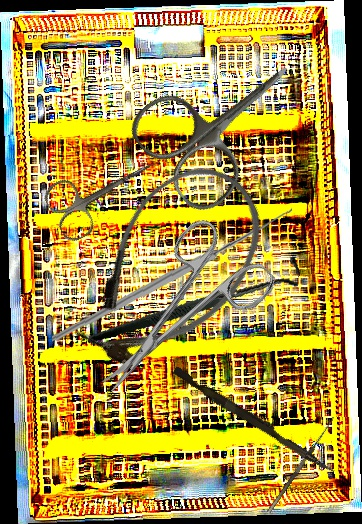Cannula: (52, 141, 291, 396)
Hook Surgical: (51, 185, 293, 352), (87, 219, 304, 382), (261, 413, 337, 514)
Iris Scissors: (67, 208, 281, 422), (122, 22, 326, 220), (40, 138, 169, 245)
Pusher: (170, 366, 339, 475)
